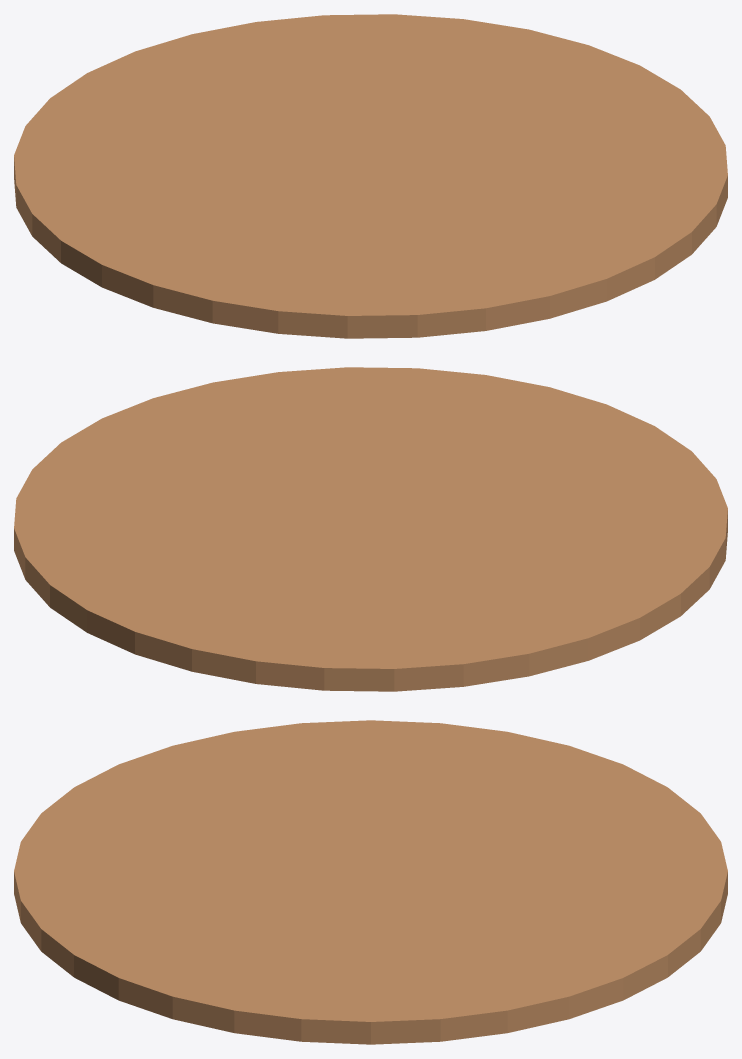
The model's file is SM_Crater_Vista.fbx.
3 views of the same model, one above another, from view 1: azimuth 30°, elevation 25°; view 2: azimuth 150°, elevation 25°; view 3: azimuth 270°, elevation 25° (orthographic).
Visible parts, largest first — view 1: SM_Crater_Vista; view 2: SM_Crater_Vista; view 3: SM_Crater_Vista.
Boxes of the visible parts, box(x1,y1,x2,y2) form: SM_Crater_Vista: box(14, 14, 727, 338); SM_Crater_Vista: box(14, 367, 727, 691); SM_Crater_Vista: box(14, 720, 727, 1044).
Size of the model in its own units: 10 by 0.35 by 10.
